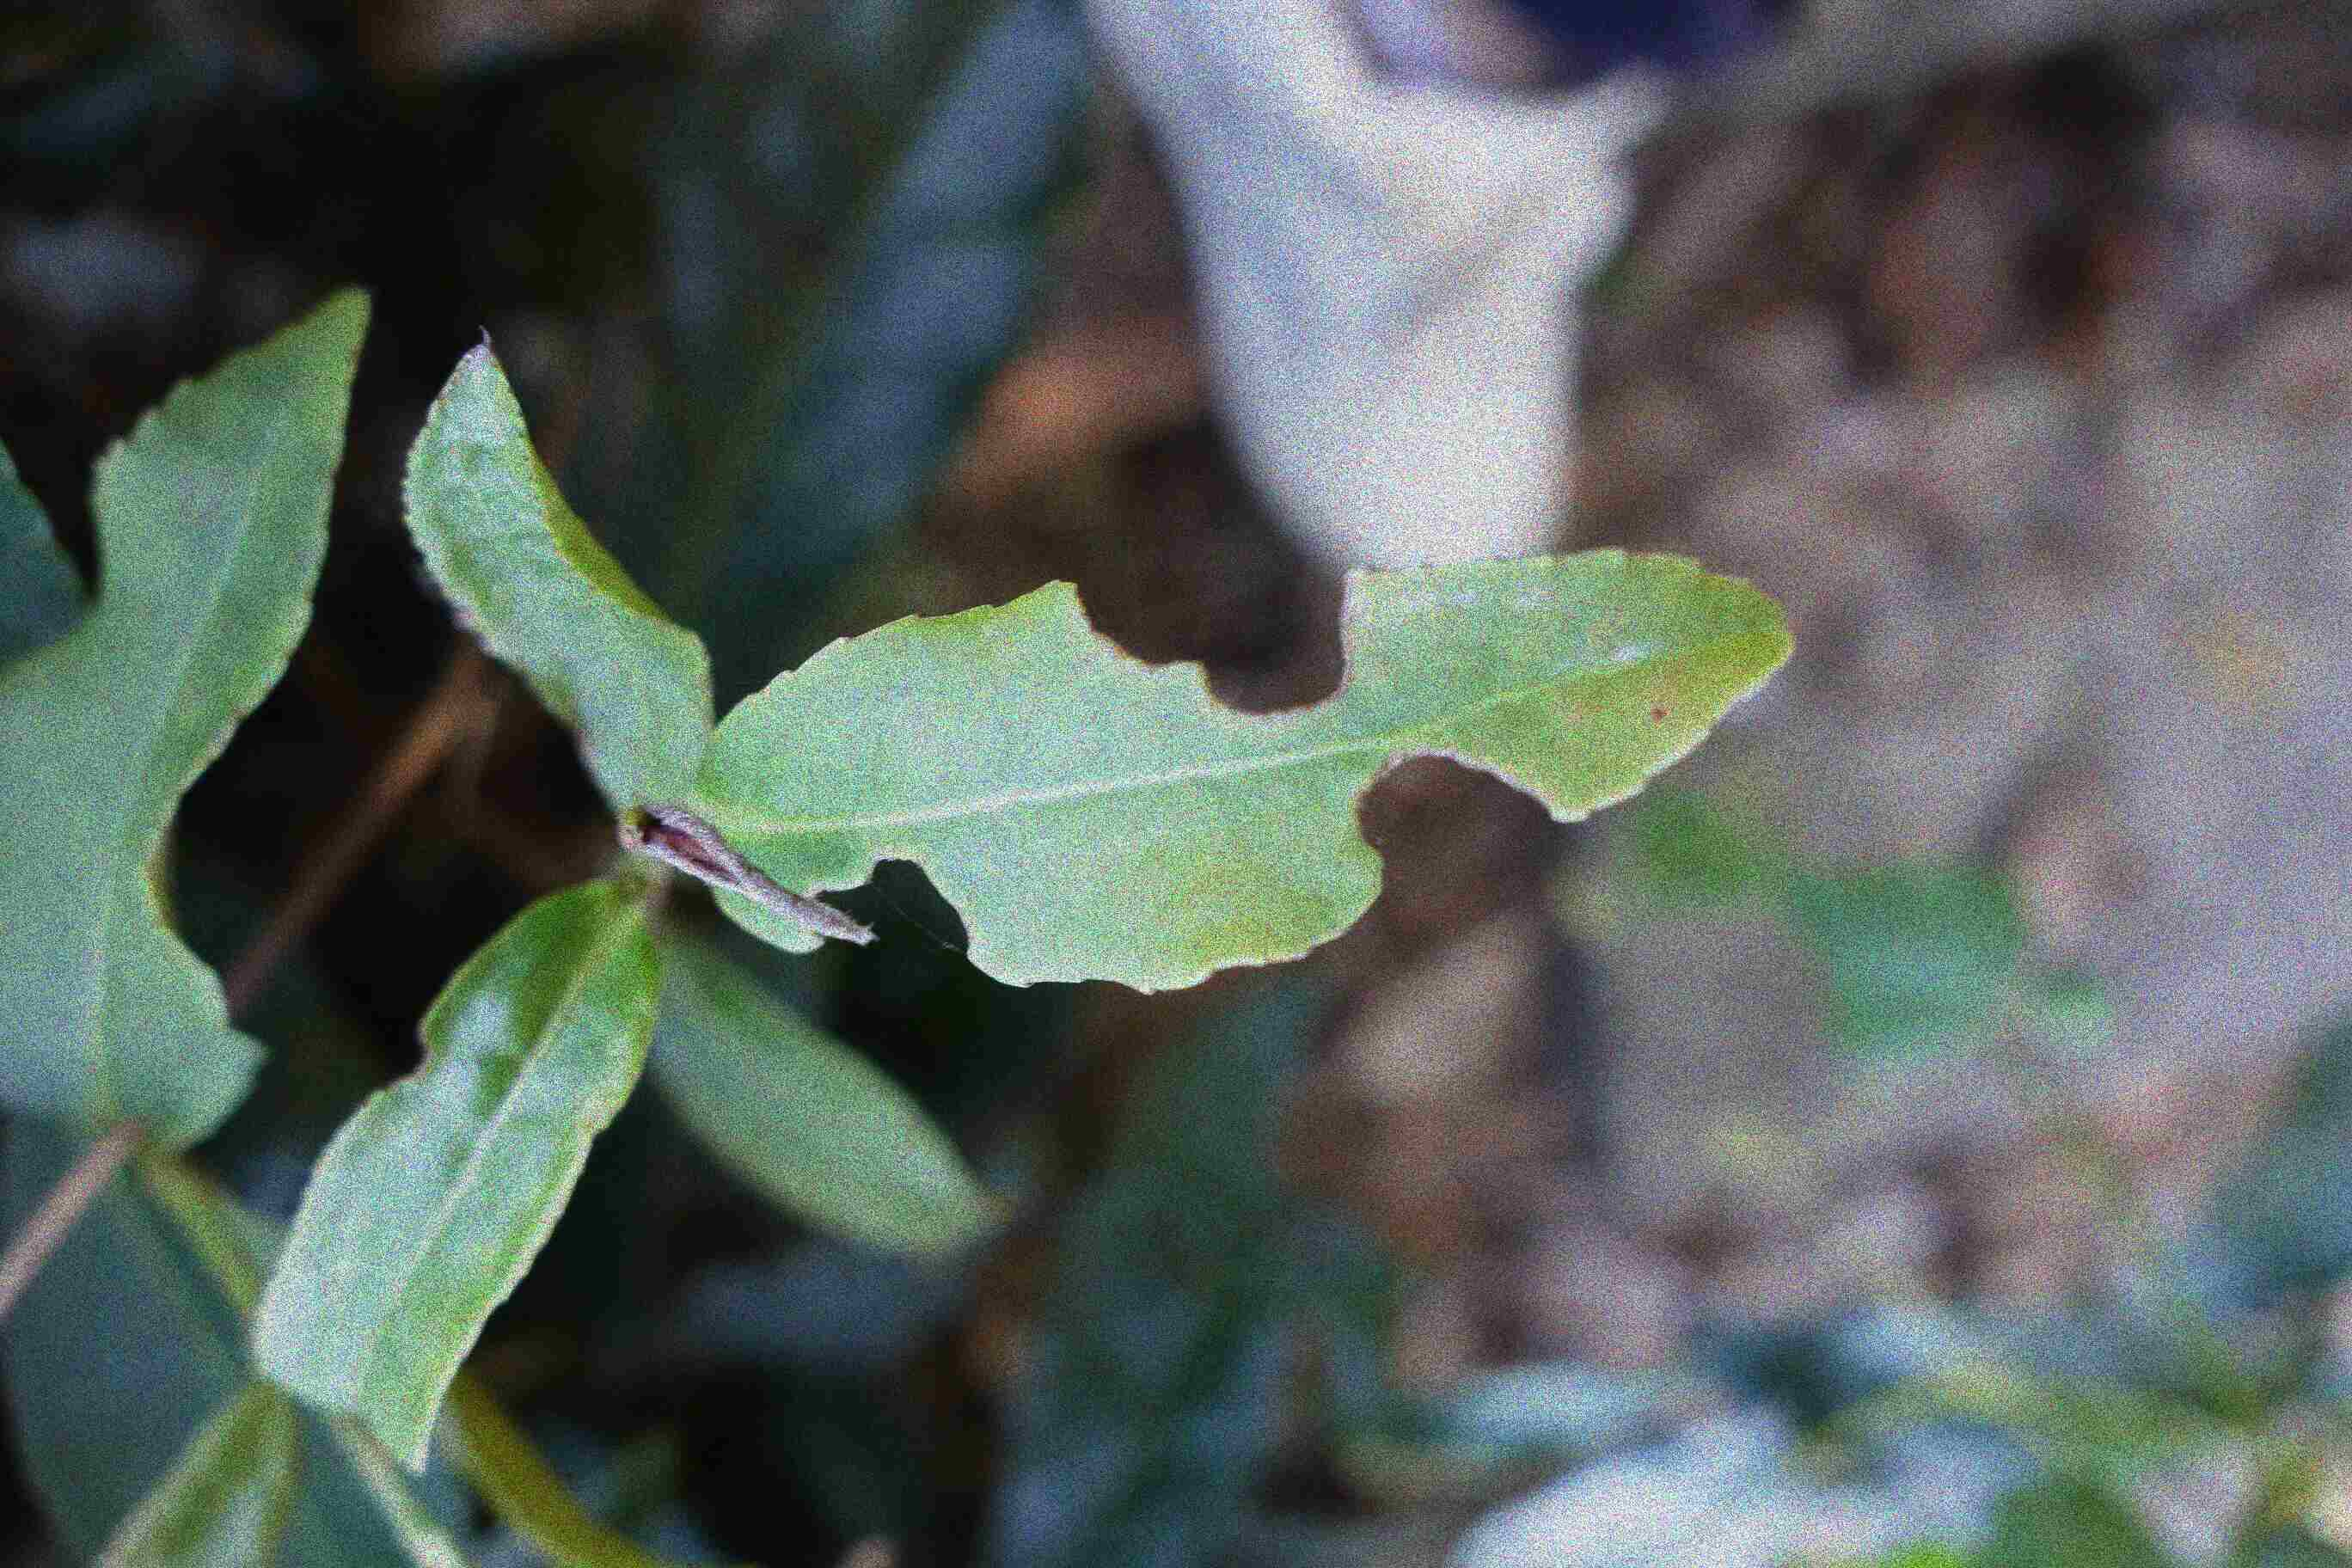chihuo_high: (700, 534, 1801, 997)
chihuo_low: (250, 877, 677, 1473)
